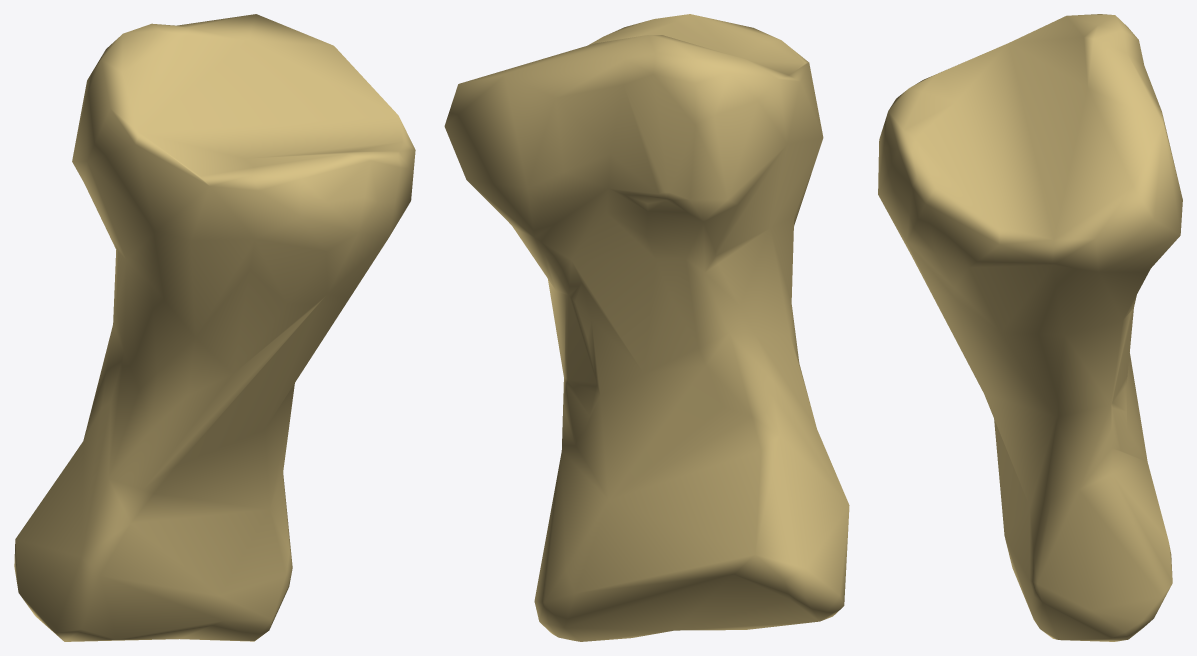
3 renders of one model, left to right at view 1: azimuth 30°, elevation 25°; view 2: azimuth 150°, elevation 25°; view 3: azimuth 270°, elevation 25°, orthographic. The views are drawn at different scales.
Visible parts, largest first — view 1: 右侧第三趾中节趾骨; view 2: 右侧第三趾中节趾骨; view 3: 右侧第三趾中节趾骨.
Part boxes in pixels (left/top/right/bottom): 右侧第三趾中节趾骨: left=14, top=14, right=415, bottom=641; 右侧第三趾中节趾骨: left=444, top=14, right=849, bottom=641; 右侧第三趾中节趾骨: left=878, top=14, right=1182, bottom=641.
Bounding box in the file's own units: 0.0164 × 0.0257 × 0.0122.
